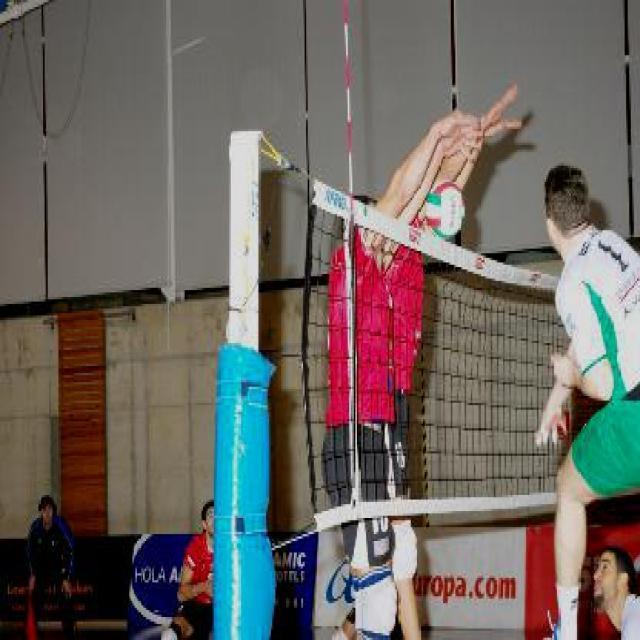volleyball: (426, 181, 468, 241)
